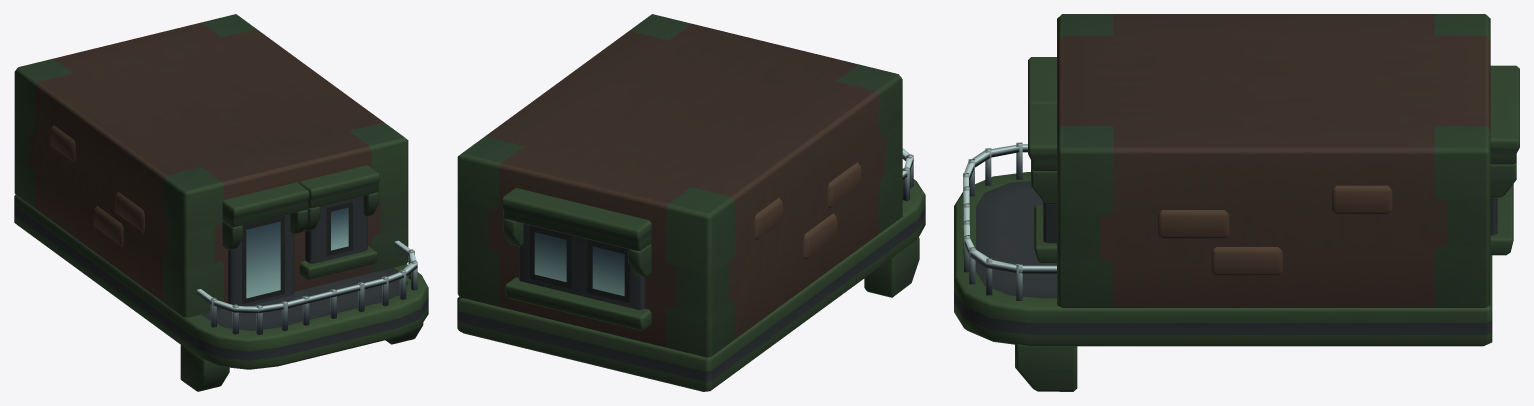
File: appartment_type3_balcony_brown.fbx
3 views of the same model, side by side, from view 1: azimuth 30°, elevation 25°; view 2: azimuth 150°, elevation 25°; view 3: azimuth 270°, elevation 25° (orthographic). The views are drawn at different scales.
Parts seen in each view (by area): view 1: appartment_type3_balcony_brown; view 2: appartment_type3_balcony_brown; view 3: appartment_type3_balcony_brown.
Boxes of the visible parts, x1,y1,x2,y2 form: appartment_type3_balcony_brown: (14,14,428,391); appartment_type3_balcony_brown: (457,14,925,391); appartment_type3_balcony_brown: (954,14,1519,391).
Size of the model in its own units: 628 by 505 by 1056.
